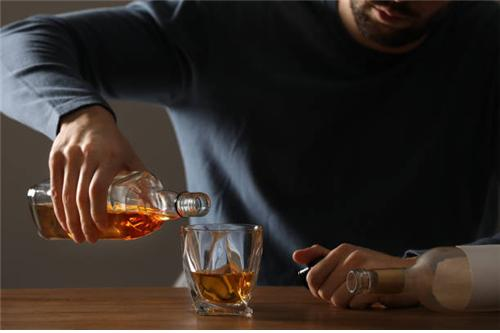alcohol: (26, 170, 210, 244), (177, 223, 264, 317)
